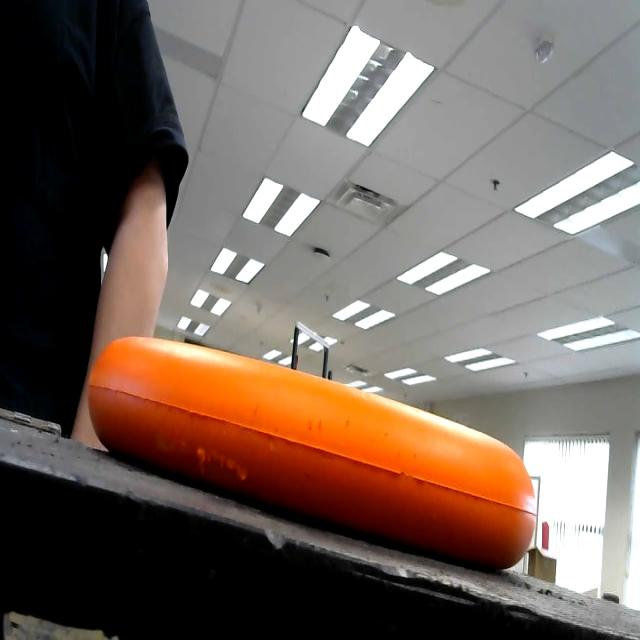note: (83, 308, 553, 590)
